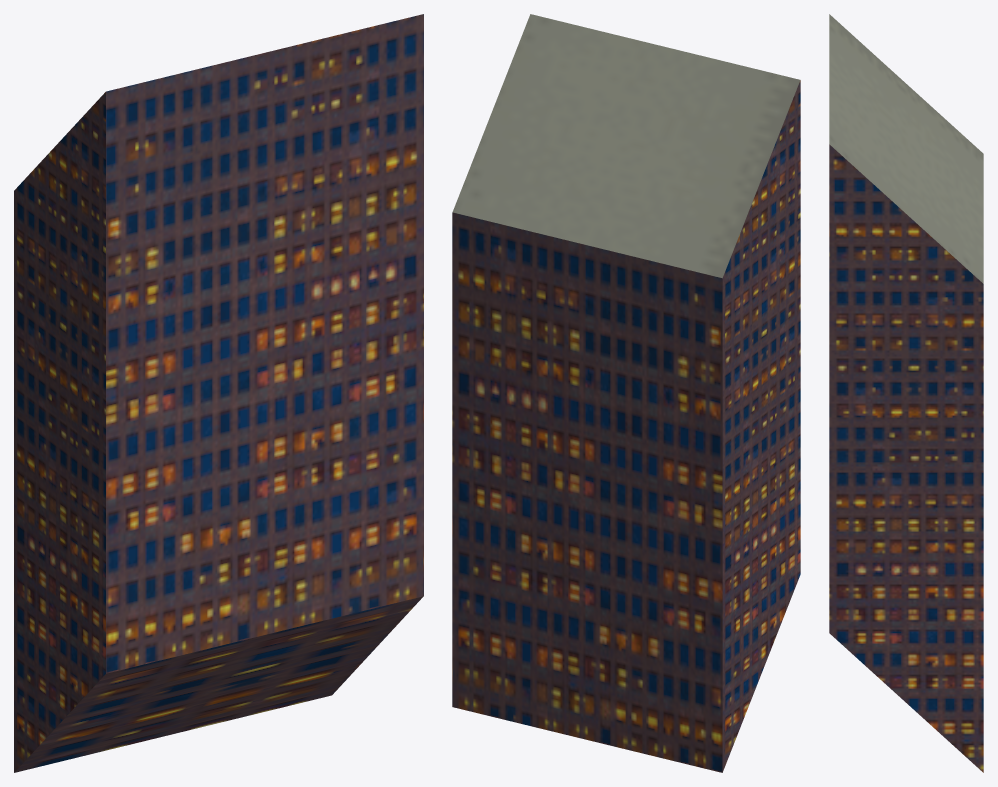
The model's file is Edificio4.fbx.
3 views of the same model, side by side, from view 1: azimuth 30°, elevation 25°; view 2: azimuth 150°, elevation 25°; view 3: azimuth 270°, elevation 25° (orthographic). The views are drawn at different scales.
Visible parts, largest first — view 1: Cube.006; view 2: Cube.006; view 3: Cube.006.
Part boxes in pixels (bbox=[...]): Cube.006: bbox=[14, 14, 423, 772]; Cube.006: bbox=[452, 14, 800, 772]; Cube.006: bbox=[829, 14, 983, 772].
Bounding box in the file's own units: 400 × 900 × 200.
Materials: 2 (2 with a texture image).
